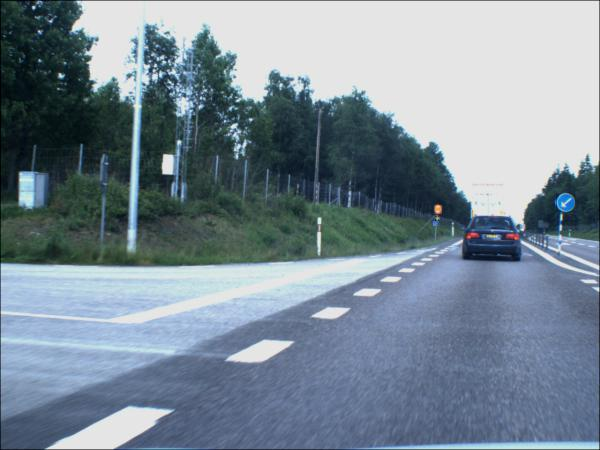100_SIGN: (434, 206, 443, 216)
PASS_RIGHT_SIDE: (556, 194, 576, 214)
PRIORITY_ROAD: (435, 217, 440, 223)
